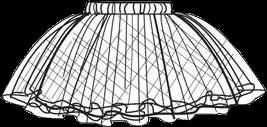Hemline: (1, 90, 266, 126)
Waistline: (84, 11, 173, 15), (88, 1, 170, 3)
